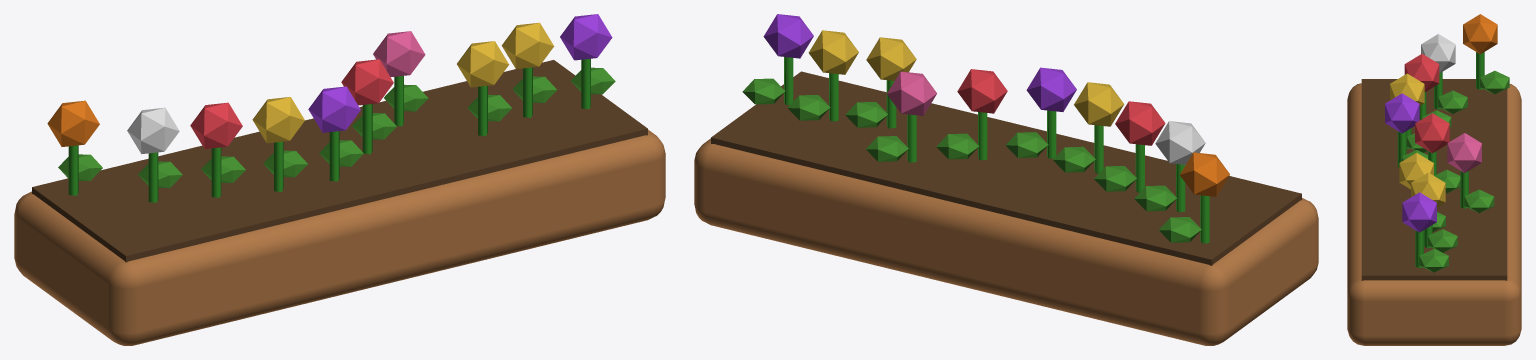
The model's file is flower_bed_3_4.glb.
3 views of the same model, side by side, from view 1: azimuth 30°, elevation 25°; view 2: azimuth 150°, elevation 25°; view 3: azimuth 270°, elevation 25° (orthographic). The views are drawn at different scales.
Visible parts, largest first — view 1: FlowerBed; view 2: FlowerBed; view 3: FlowerBed.
Boxes of the visible parts, left/top/right/bottom form: FlowerBed: left=14, top=14, right=665, bottom=345; FlowerBed: left=694, top=14, right=1318, bottom=345; FlowerBed: left=1347, top=14, right=1521, bottom=345.
Size of the model in its own units: 3.4 by 1.06 by 1.2.
